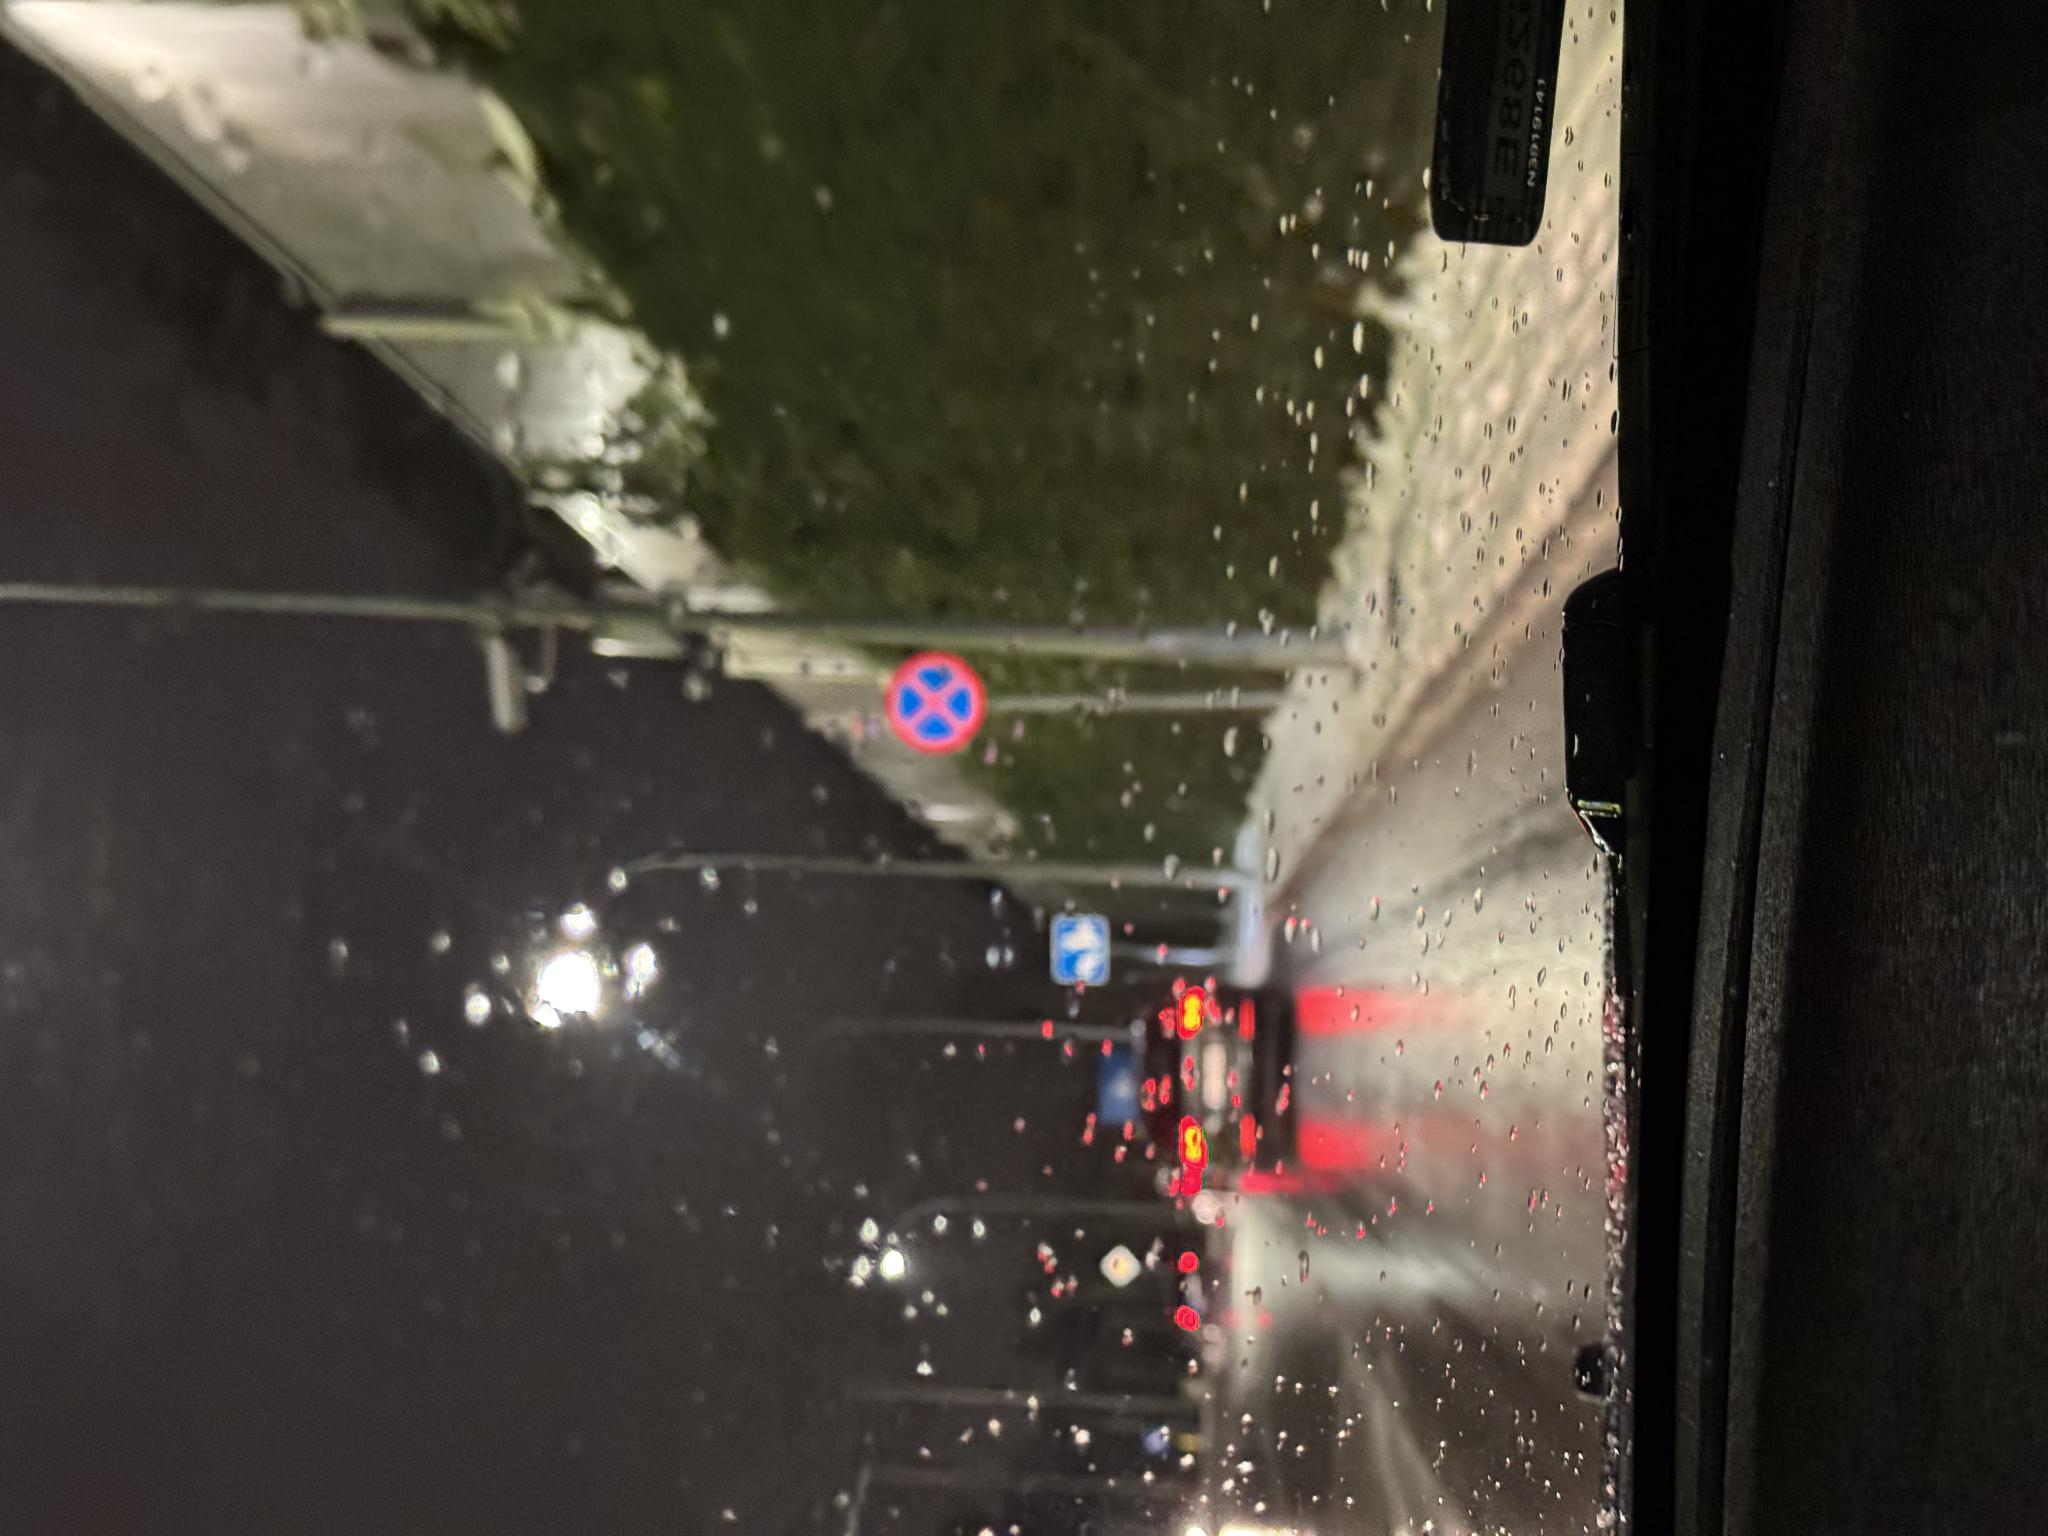prohibitory: (777, 883, 884, 987)
